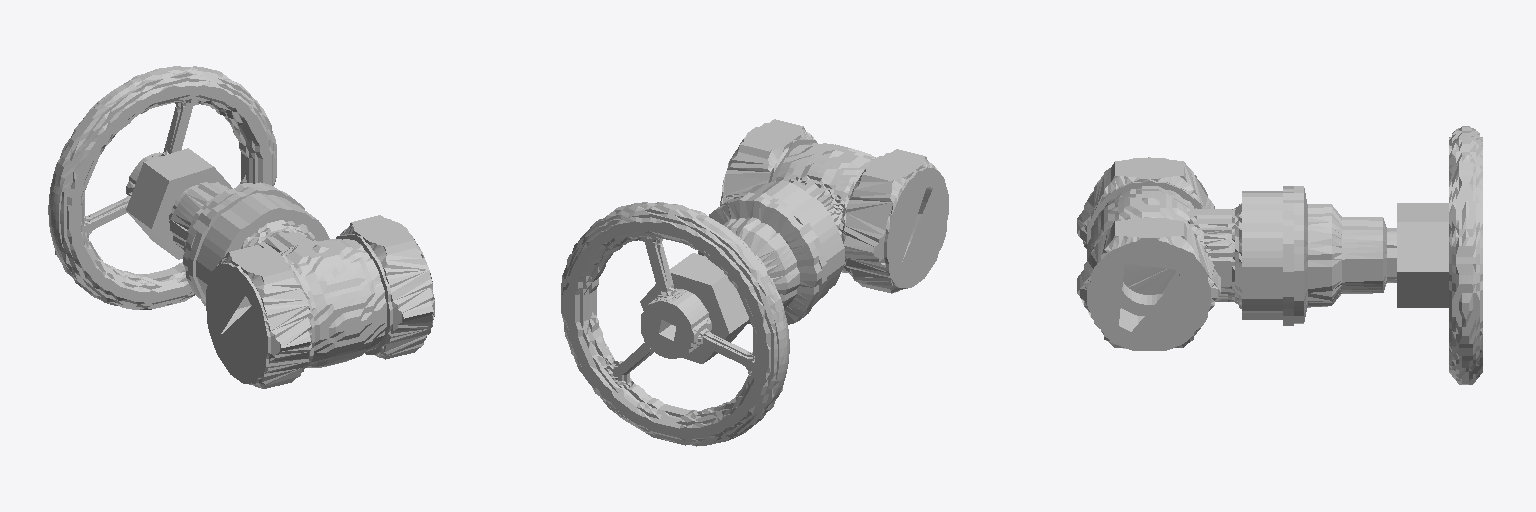
Rendered from GateValve.obj.
3 renders of one model, left to right at view 1: azimuth 30°, elevation 25°; view 2: azimuth 150°, elevation 25°; view 3: azimuth 270°, elevation 25°, orthographic.
Size of the model in its own units: 75.2 by 75 by 118.